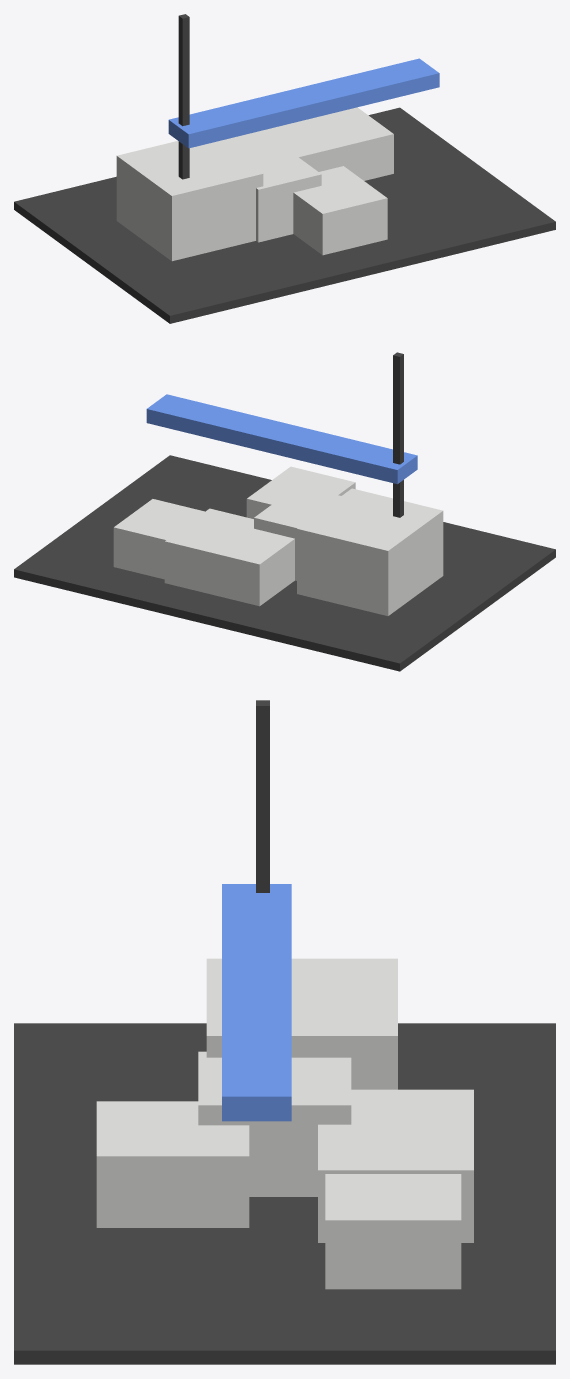
File: model.BPD_eBdZ.glb
3 views of the same model, one above another, from view 1: azimuth 30°, elevation 25°; view 2: azimuth 150°, elevation 25°; view 3: azimuth 270°, elevation 25° (orthographic). The views are drawn at different scales.
Parts seen in each view (by area): view 1: placeholder-massing; view 2: placeholder-massing; view 3: placeholder-massing.
Boxes of the visible parts, left/top/right/bottom form: placeholder-massing: left=14, top=14, right=555, bottom=323; placeholder-massing: left=14, top=352, right=555, bottom=671; placeholder-massing: left=14, top=700, right=555, bottom=1364.
Bounding box in the file's own units: 10 × 5.8 × 7.
